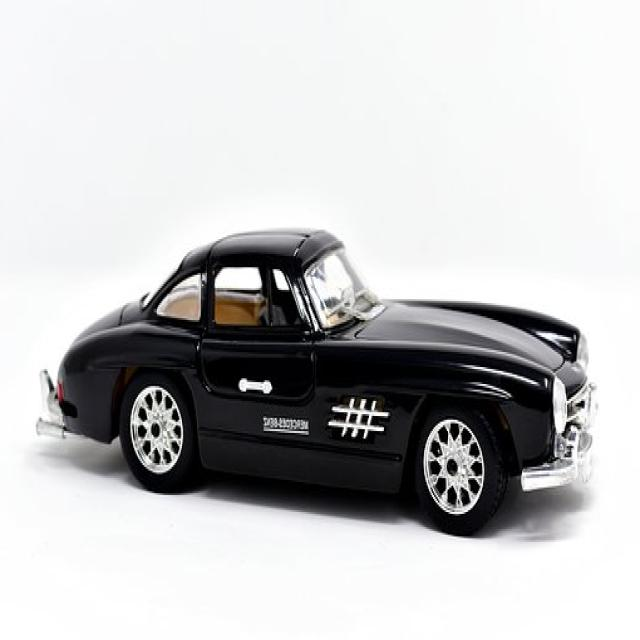Car: (36, 224, 598, 536)
